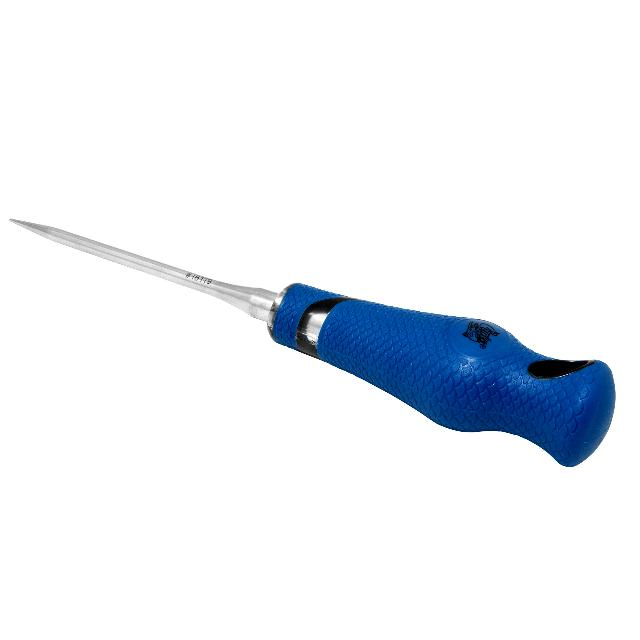ice pick: (9, 218, 616, 468)
